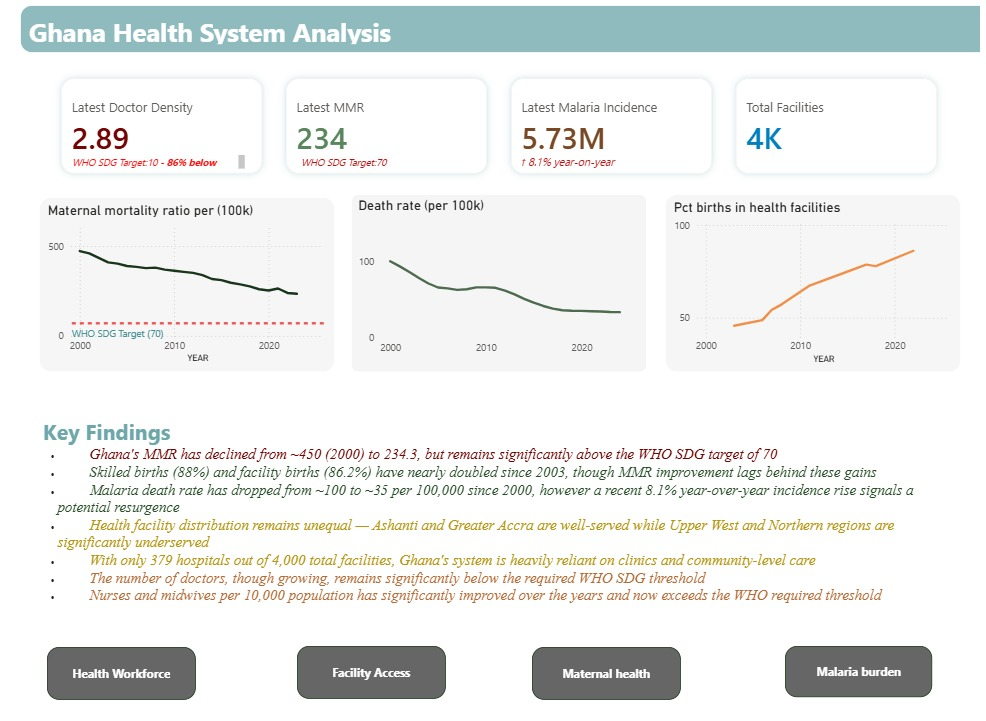

The dashboard page shown, as its layout file describes it:
{"tool":"powerbi","page":{"name":"Executive summary","canvas":[1200,900],"ordinal":4},"visuals":[{"type":"textbox","box":[0,0,1280,60],"z":0},{"type":"cardVisual","fields":{"Data":["Ghana_workforce.Latest Doctor Density","Ghana_MMR.Lastest MMR","Ghana_Malaria.Latest Malaria Incidence","Ghana_Facilities.Total Facilities"]},"box":[24.3,64.3,1151.4,175.7],"z":1000},{"type":"textbox","box":[24.3,510,1151.4,264.3],"z":2000},{"type":"actionButton","box":[345.7,801.4,185.7,65.7],"z":3000},{"type":"actionButton","box":[955.7,801.4,184.3,64.3],"z":4000},{"type":"actionButton","box":[640,802.9,185.7,65.7],"z":5000},{"type":"actionButton","box":[34.3,802.9,185.7,65.7],"z":6000},{"type":"lineChart","title":"Maternal mortality ratio per (100k)","fields":{"Category":["Ghana_MMR.YEAR"],"Y":["Avg(Ghana_MMR.MMR_PER_100000_N)"]},"box":[24.3,240,370,218.6],"z":7000},{"type":"lineChart","title":"Death rate (per 100k)","fields":{"Category":["Ghana_Malaria.YEAR"],"Y":["Sum(Ghana_Malaria.VALUE)"]},"box":[414.3,235.7,370,222.9],"z":8000},{"type":"lineChart","title":"Pct births in health facilities","fields":{"Category":["Ghana_ Maternal.YEAR"],"Y":["Sum(Ghana_ Maternal.VALUE)"]},"box":[805.7,235.7,370,222.9],"z":9000},{"type":"textbox","box":[60,182.9,225.7,28.6],"z":9001},{"type":"textbox","box":[345.7,182.9,204.3,34.3],"z":9002},{"type":"textbox","box":[620,182.9,225.7,28.6],"z":9003}]}

Visuals, with their boxes in screenshot pixels (x1, y1, x2, y2), scaled from the page's 1200x900 canvas onto the 986x721 screenshot:
textbox: (x1=0, y1=0, x2=985, y2=48)
cardVisual - Ghana_workforce.Latest Doctor Density x Ghana_MMR.Lastest MMR: (x1=20, y1=52, x2=966, y2=192)
textbox: (x1=20, y1=409, x2=966, y2=620)
actionButton: (x1=284, y1=642, x2=437, y2=695)
actionButton: (x1=785, y1=642, x2=937, y2=694)
actionButton: (x1=526, y1=643, x2=678, y2=696)
actionButton: (x1=28, y1=643, x2=181, y2=696)
"Maternal mortality ratio per (100k)" lineChart: (x1=20, y1=192, x2=324, y2=367)
"Death rate (per 100k)" lineChart: (x1=340, y1=189, x2=644, y2=367)
"Pct births in health facilities" lineChart: (x1=662, y1=189, x2=966, y2=367)
textbox: (x1=49, y1=147, x2=235, y2=169)
textbox: (x1=284, y1=147, x2=452, y2=174)
textbox: (x1=509, y1=147, x2=695, y2=169)
